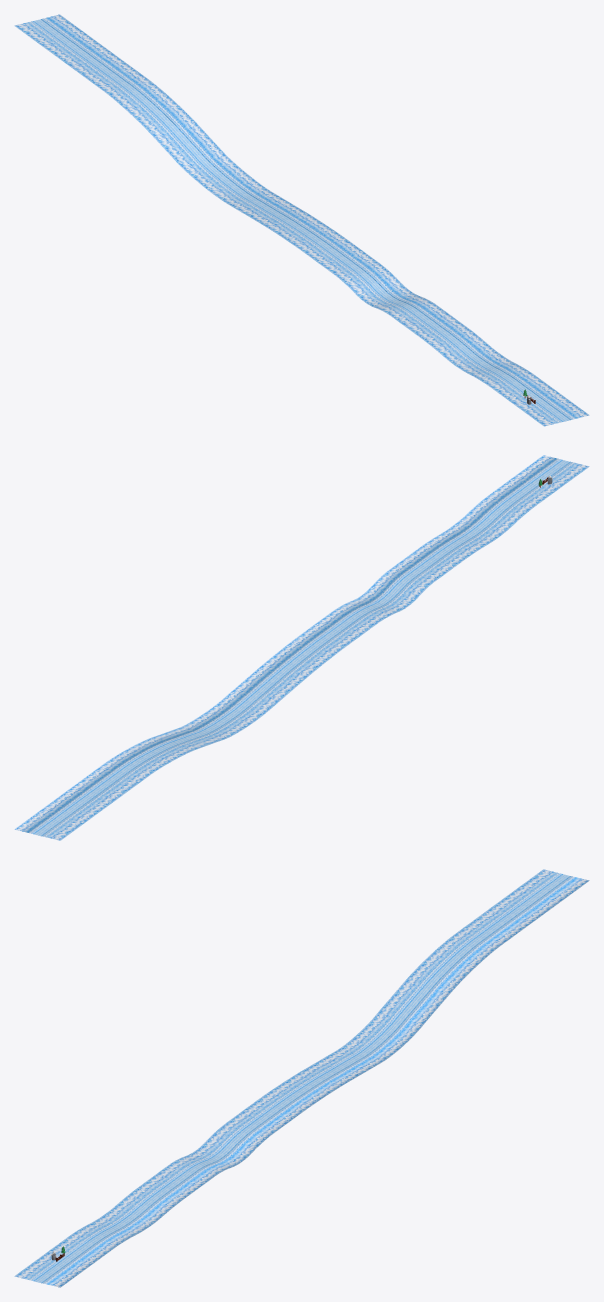
Rendered from snow track (2).fbx.
The picture shows the model from 3 angles, top to bottom: view 1: azimuth 30°, elevation 25°; view 2: azimuth 150°, elevation 25°; view 3: azimuth 330°, elevation 25°; orthographic projection.
Parts seen in each view (by area): view 1: Plane, way; view 2: Plane, way; view 3: Plane, way.
Boxes of the visible parts, x1=… form: Plane: x1=14, y1=14, x2=589, y2=426; way: x1=33, y1=19, x2=570, y2=421; Plane: x1=14, y1=455, x2=589, y2=840; way: x1=33, y1=460, x2=570, y2=835; Plane: x1=14, y1=869, x2=589, y2=1287; way: x1=33, y1=874, x2=570, y2=1282.
Size of the model in its own units: 800 by 407 by 14690.
Materials: 6 (3 with a texture image).
